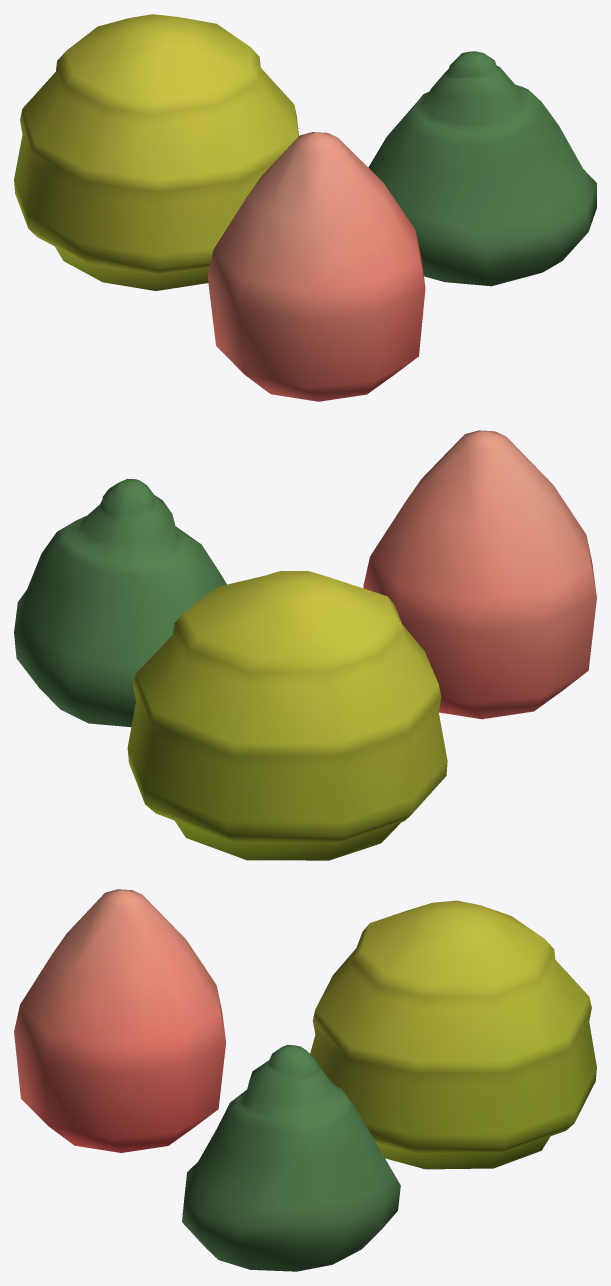
Rendered from SM_Bush_08.fbx.
3 renders of one model, top to bottom at view 1: azimuth 30°, elevation 25°; view 2: azimuth 150°, elevation 25°; view 3: azimuth 270°, elevation 25°, orthographic. The views are drawn at different scales.
Visible parts, largest first — view 1: SM_Bush_08; view 2: SM_Bush_08; view 3: SM_Bush_08.
Boxes of the visible parts, x1,y1,x2,y2 form: SM_Bush_08: (14,14,596,401); SM_Bush_08: (14,430,596,860); SM_Bush_08: (14,889,596,1271).
Size of the model in its own units: 245 by 121 by 278.
